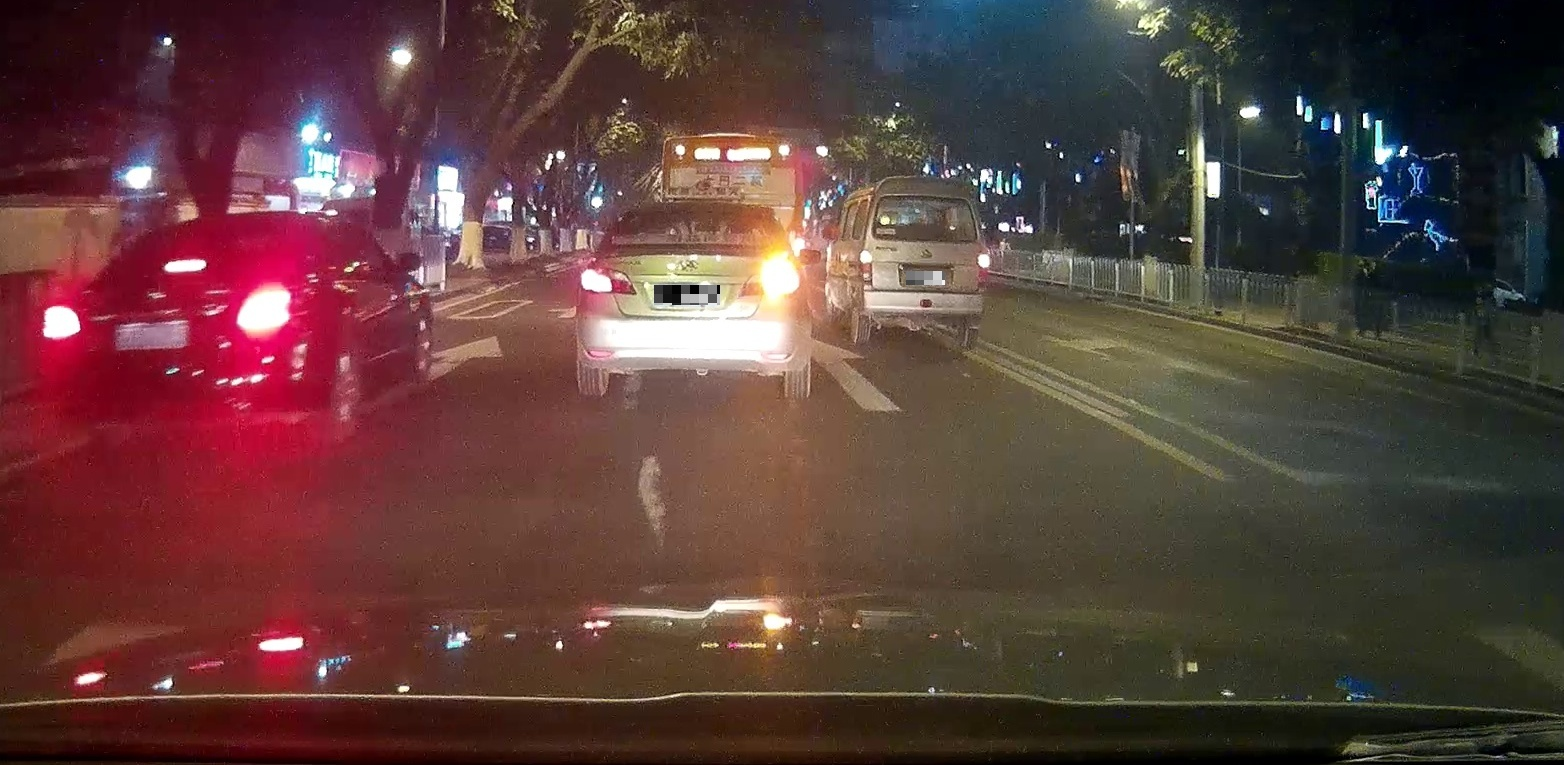L_light: (578, 266, 637, 295), (41, 306, 85, 341), (858, 249, 873, 292)
R_light: (234, 281, 296, 339), (737, 254, 802, 298), (976, 252, 991, 295)
T_light: (160, 259, 206, 271), (684, 202, 717, 208), (918, 236, 950, 242)
night-no: (857, 176, 991, 347)
night-right: (41, 214, 298, 442), (574, 200, 812, 396)
plate_1: (654, 285, 720, 305)
plate_2: (906, 271, 945, 285)
